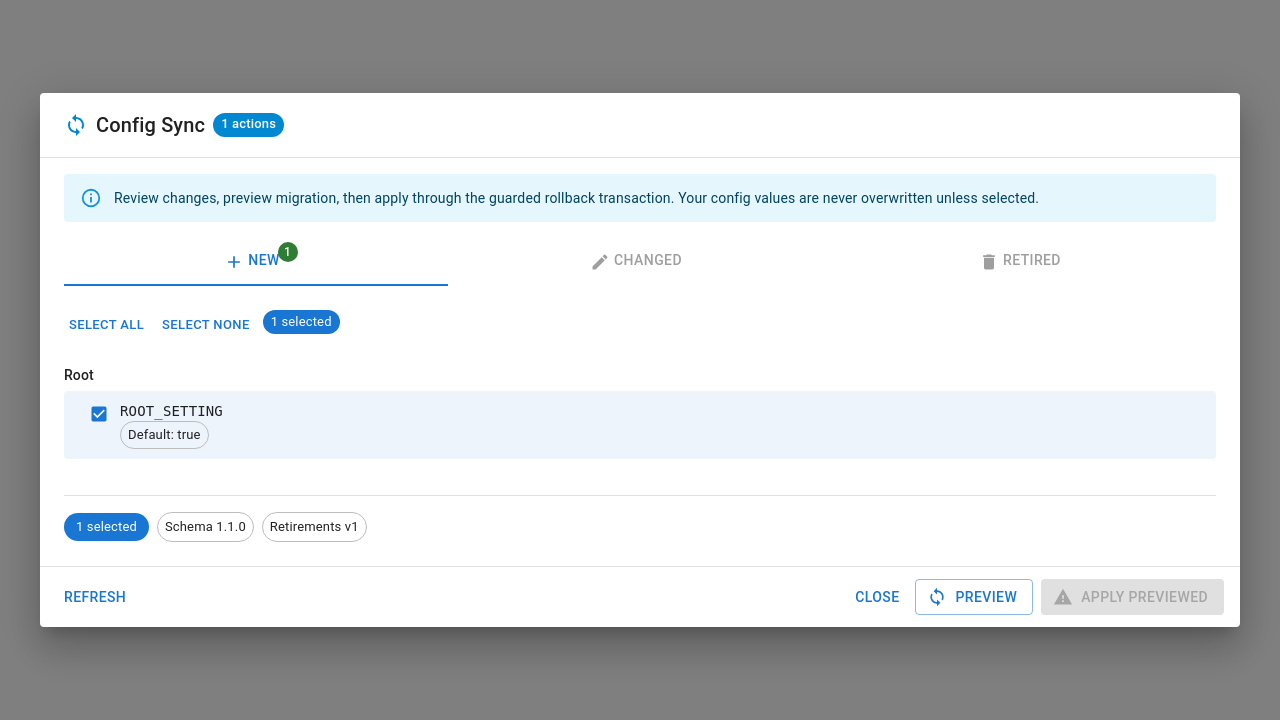
SyncWithDefaultsDialog › shows root paths and every preview warning individually
Expected: the heading "Root" is shown, [64, 367, 94, 383]
Expected: the text "ROOT_SETTING" is shown, [120, 403, 223, 419]
Click the button "Preview".
click(974, 597)  # box [916, 579, 1033, 615]
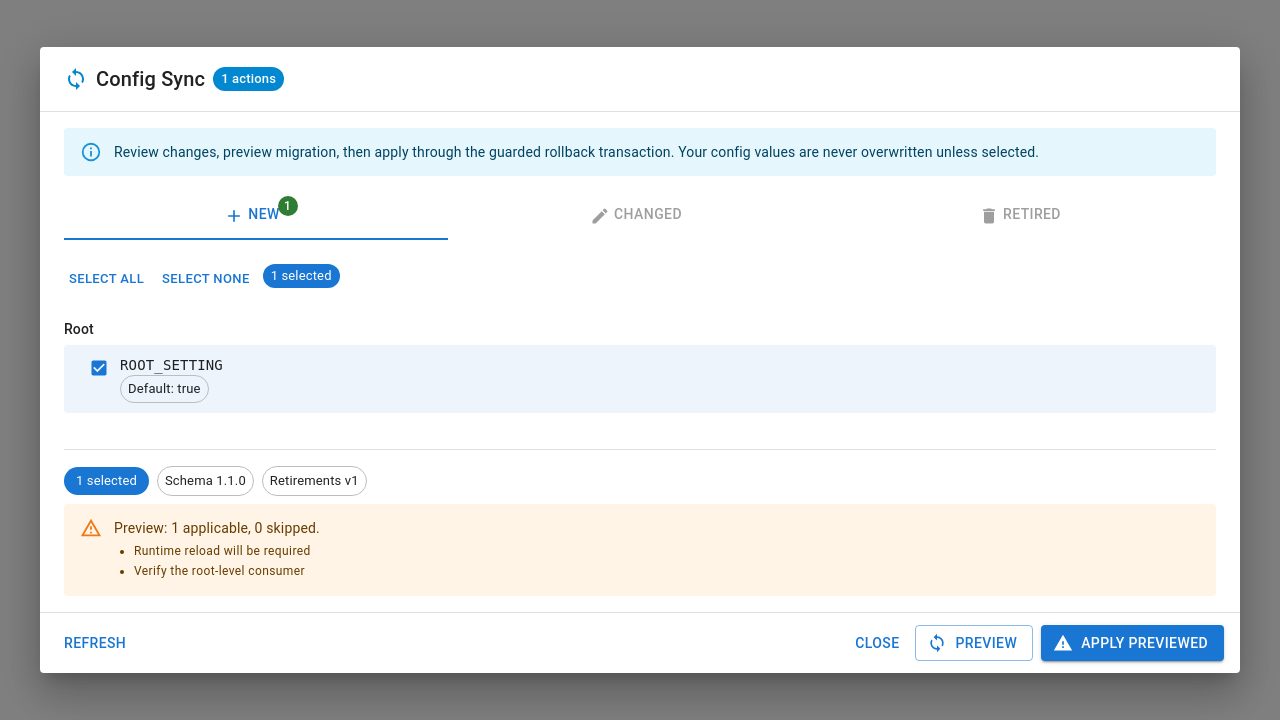
Result: the list item "Runtime reload will be required" is shown at [134, 542, 320, 562]
Result: the list item "Verify the root-level consumer" is shown at [134, 562, 320, 582]
